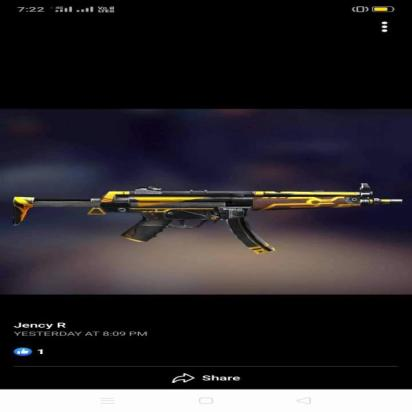Gun: (10, 182, 406, 256)
